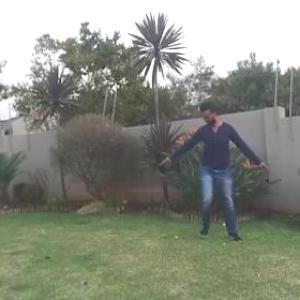land: (140, 91, 274, 255)
